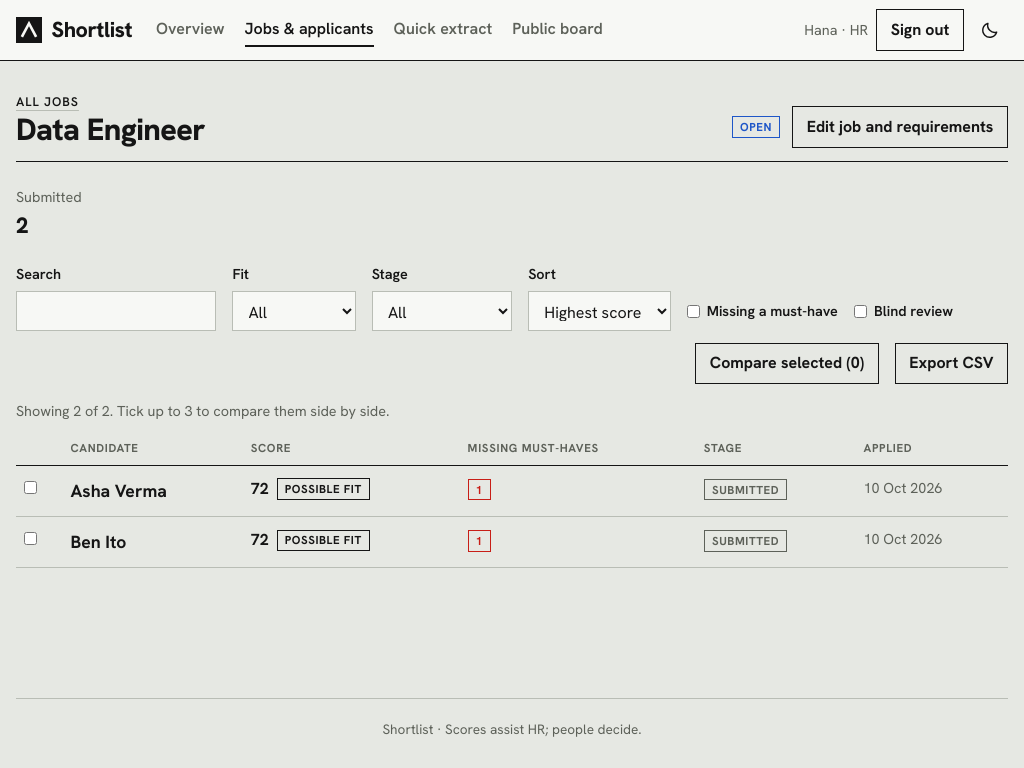
Test: compare › selects two applicants from the list and compares them requirement by requirement
Expected: the button "Compare selected (0)" is disabled, [695, 343, 879, 384]
Step 1. Click the checkbox named "Compare Asha Verma" → click(30, 487), box [24, 481, 37, 494]
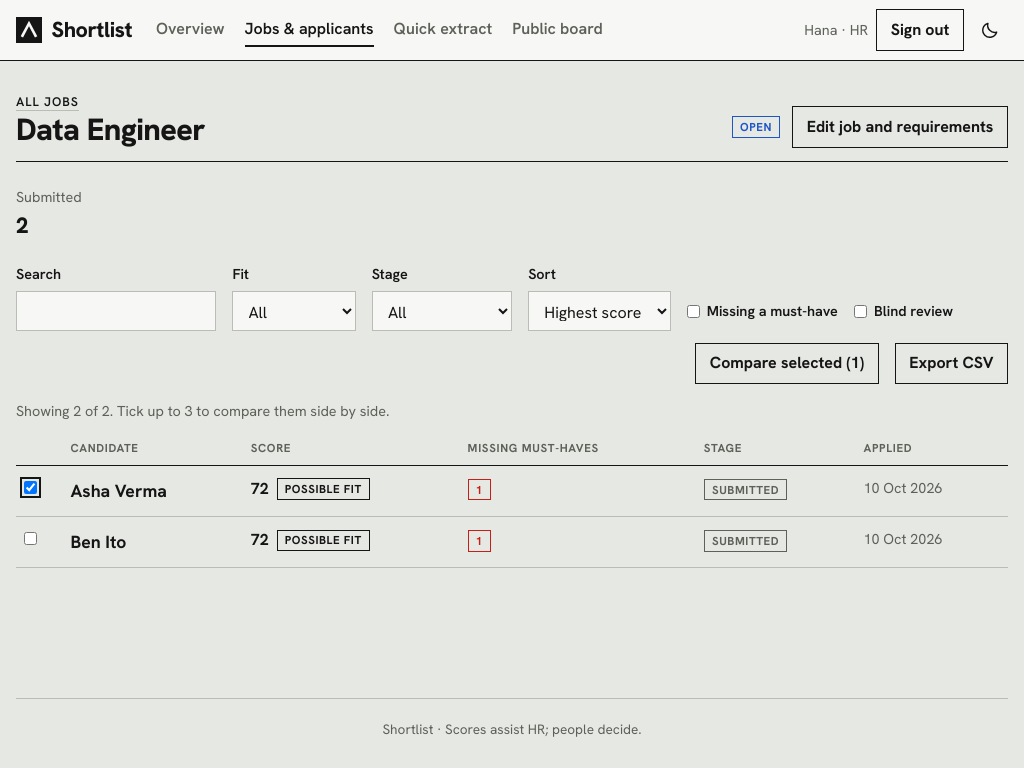
Step 2. Click the checkbox named "Compare Ben Ito" → click(30, 538), box [24, 532, 37, 545]
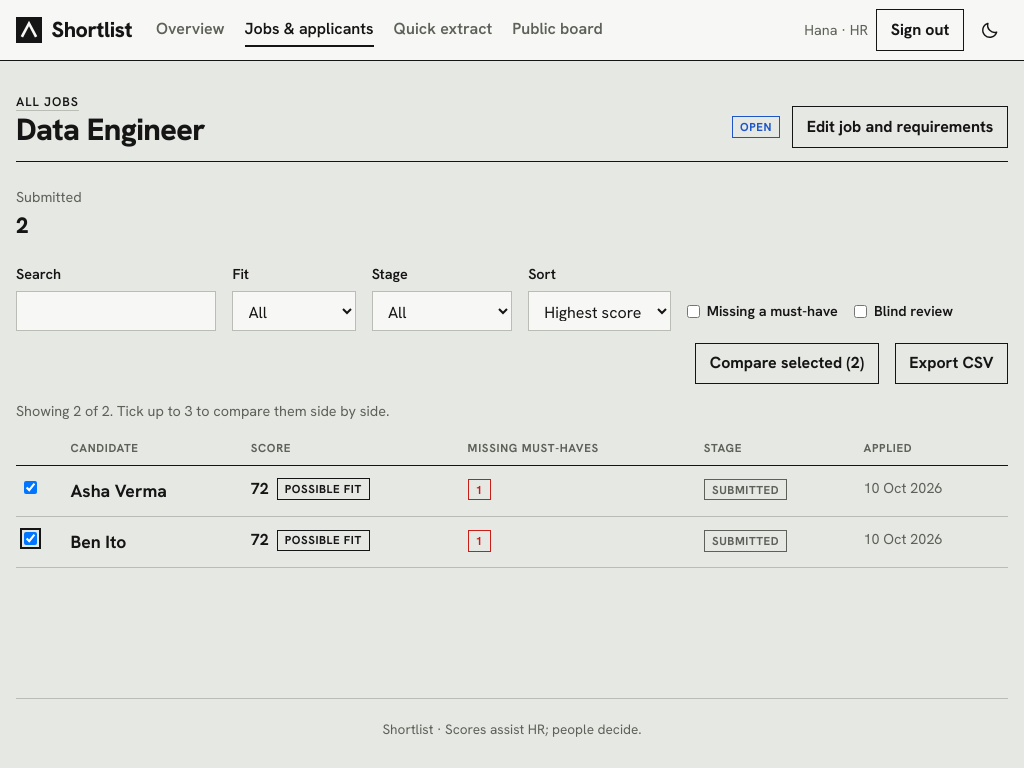
Step 3. Click the button "Compare selected (2)" → click(787, 364), box [695, 343, 879, 384]
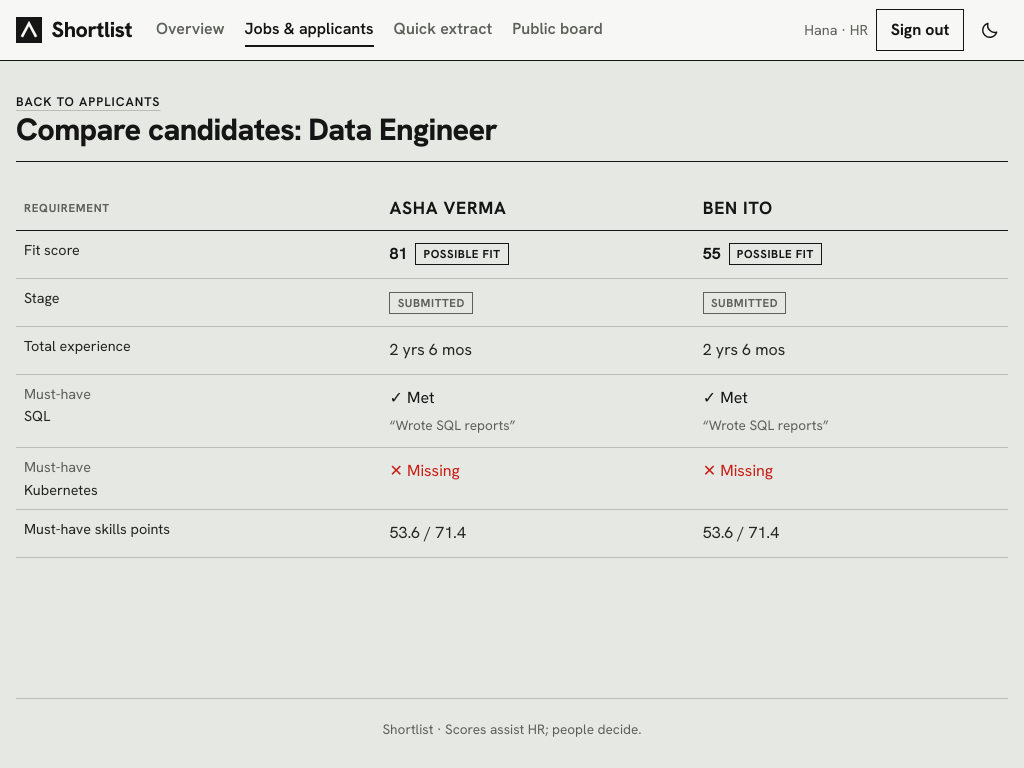
Expected: the heading "Compare candidates: Data Engineer" is shown, [16, 112, 497, 148]
Expected: the text "Missing" is shown 2 times, [390, 460, 460, 482]; [703, 460, 773, 482]
Expected: the text "2 yrs 6 mos" is shown 2 times, [382, 326, 695, 375]; [695, 326, 1008, 375]
